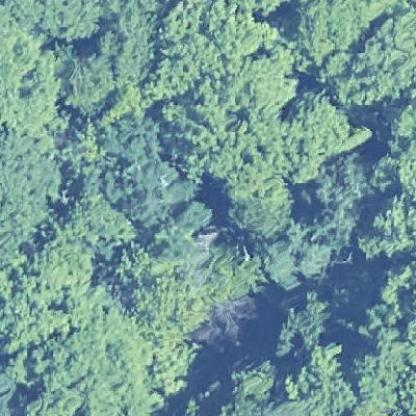tree-top: (99, 115, 194, 224), (285, 85, 355, 185), (58, 42, 116, 113), (276, 291, 326, 354)
